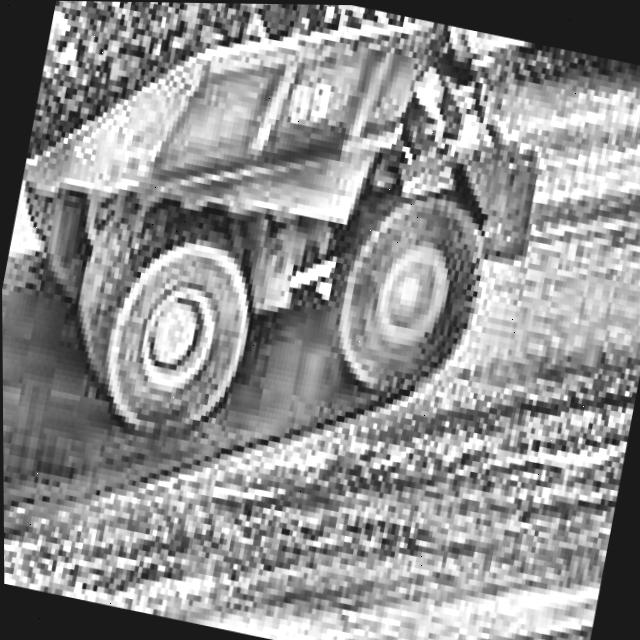dump_truck: (0, 0, 585, 495)
